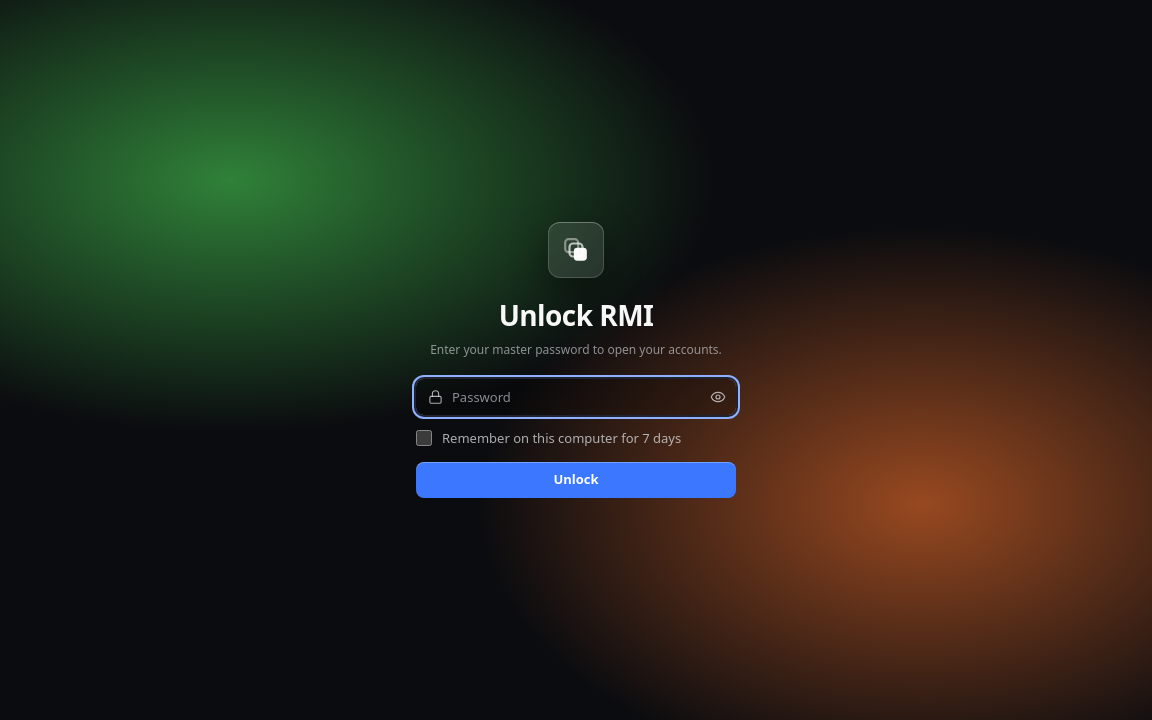
Test case: an unlock that finds the file damaged opens the recovery panel
Type "anything" into the password field labelled "Password".
click(576, 397); type("anything")  # box [416,379,736,415]
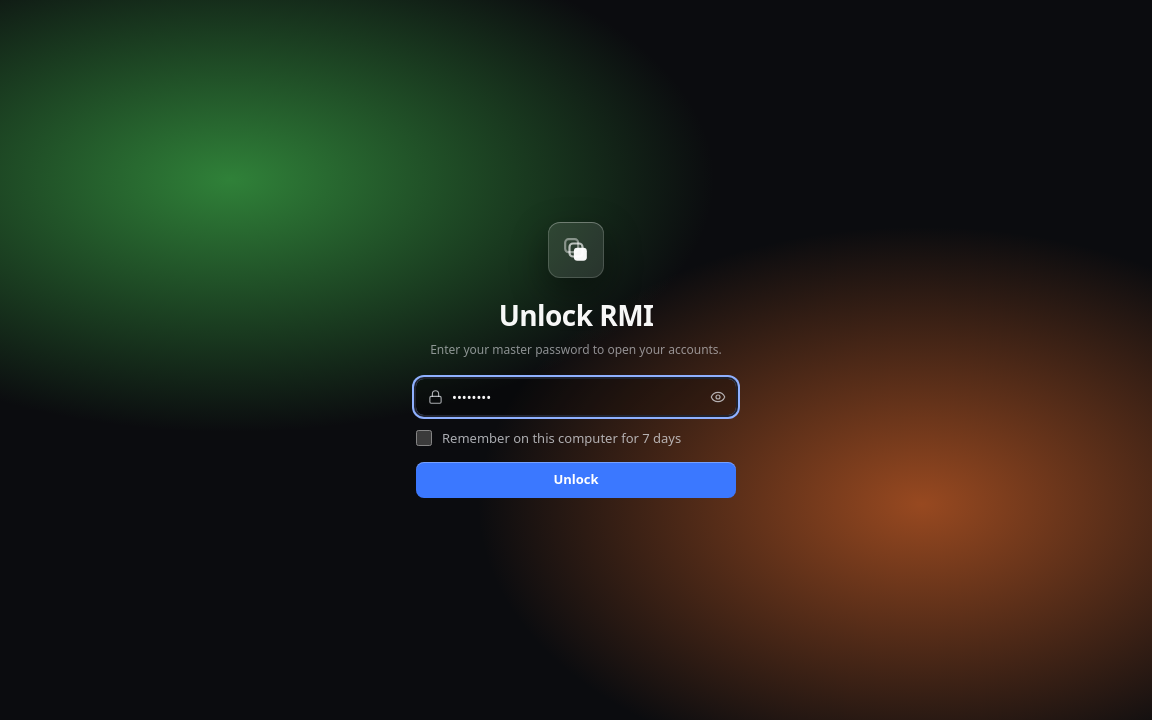
Click the button "Unlock".
click(576, 480)  # box [416,462,736,498]
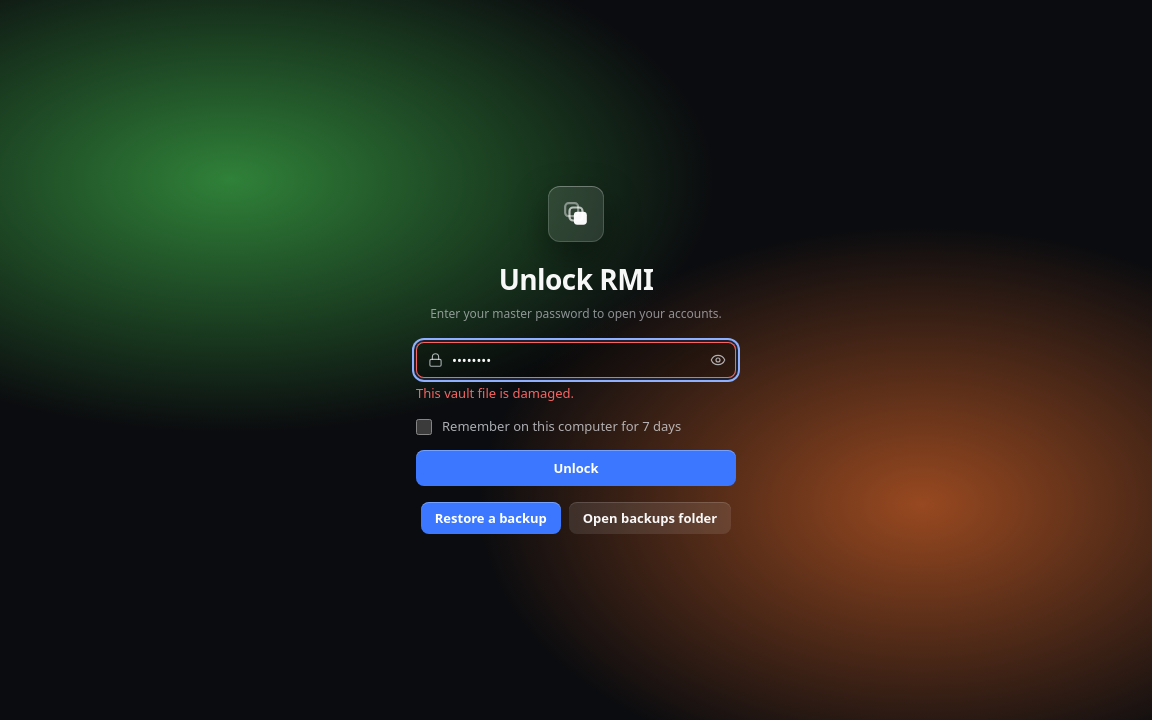
Expected: the button "Restore a backup" is shown, [421,502,561,534]
